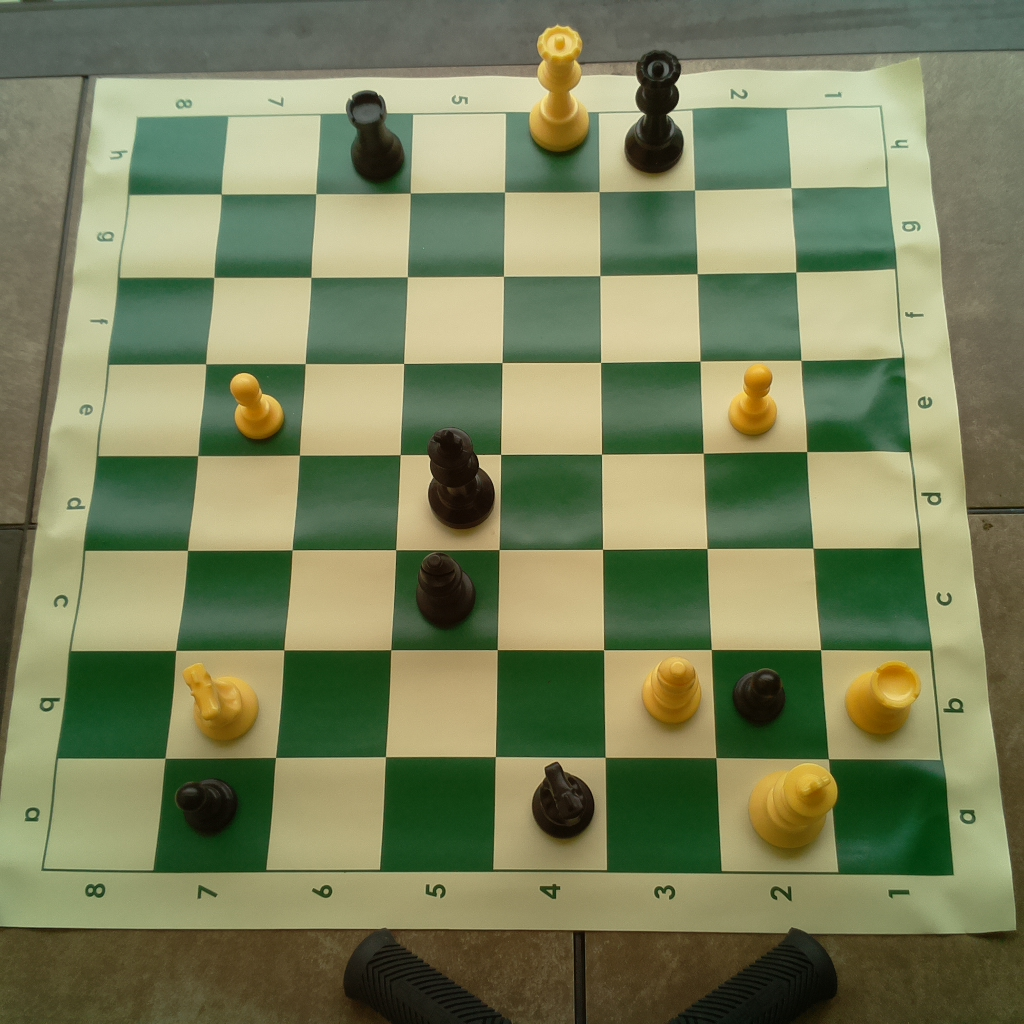black_bishop: (411, 553, 476, 630)
black_king: (420, 421, 498, 534)
black_knight: (531, 758, 597, 844)
black_pawn: (175, 771, 245, 838), (729, 661, 793, 731)
black_queen: (623, 49, 689, 175)
black_rook: (342, 88, 407, 183)
file_a: (44, 758, 955, 875)
file_b: (53, 652, 941, 758)
file_c: (67, 549, 933, 651)
file_d: (83, 452, 920, 548)
file_e: (98, 358, 910, 453)
file_f: (111, 270, 902, 357)
file_g: (118, 186, 897, 279)
file_h: (129, 105, 888, 193)
outline: (42, 104, 953, 874)
rank_1: (788, 105, 953, 877)
rank_2: (692, 106, 840, 871)
rank_3: (597, 108, 724, 871)
rank_4: (494, 109, 610, 873)
rank_5: (379, 114, 503, 871)
rank_6: (263, 115, 415, 870)
rank_7: (153, 115, 319, 869)
rank_8: (42, 115, 228, 873)
white_bishop: (637, 649, 703, 727)
white_king: (742, 756, 840, 856)
white_knight: (180, 660, 264, 745)
white_pawn: (224, 369, 290, 443), (728, 365, 783, 439)
white_queen: (524, 19, 593, 151)
white_rook: (842, 653, 921, 735)
